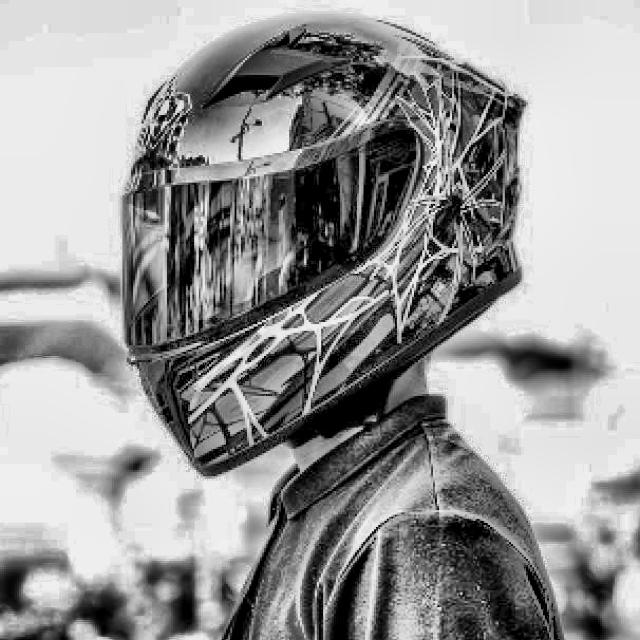Helmet: (111, 2, 537, 489)
